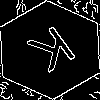K: (25, 25, 85, 82)
